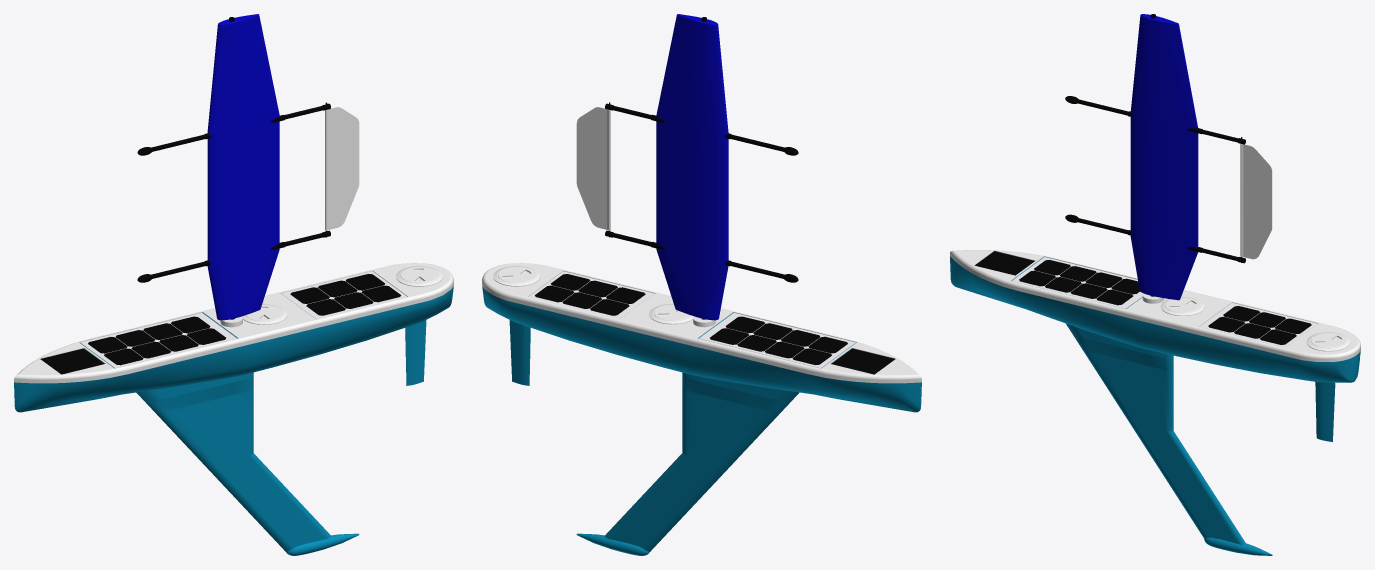
Rendered from boat.glb.
The picture shows the model from 3 angles, left to right: view 1: azimuth 30°, elevation 25°; view 2: azimuth 150°, elevation 25°; view 3: azimuth 330°, elevation 25°; orthographic projection. The views are drawn at different scales.
Parts seen in each view (by area): view 1: Body1.014, Body1.008, Body1.003, Body1.009, Body1.004, Body1.007, Body1, Body1.002, Body1.012, Body1.001; view 2: Body1.014, Body1.008, Body1.003, Body1.009, Body1.004, Body1.007, Body1, Body1.002, Body1.012, Body1.001; view 3: Body1.014, Body1.008, Body1.003, Body1.009, Body1.004, Body1.007, Body1, Body1.002, Body1.012, Body1.001.
Boxes of the visible parts, x1,y1,x2,y2 form: Body1.014: (14, 263, 453, 555); Body1.008: (207, 14, 279, 320); Body1.003: (80, 313, 236, 368); Body1.009: (325, 102, 359, 237); Body1.004: (281, 271, 407, 319); Body1.007: (151, 17, 330, 319); Body1: (405, 320, 426, 385); Body1.002: (40, 348, 104, 374); Body1.012: (396, 266, 442, 286); Body1.001: (242, 304, 287, 324); Body1.014: (482, 263, 921, 555); Body1.008: (656, 14, 728, 320); Body1.003: (699, 313, 855, 368); Body1.009: (576, 102, 610, 237); Body1.004: (528, 271, 654, 319); Body1.007: (605, 17, 784, 319); Body1: (509, 320, 530, 385); Body1.002: (831, 348, 895, 374); Body1.012: (493, 266, 540, 286); Body1.001: (649, 304, 693, 324); Body1.014: (950, 250, 1360, 555); Body1.008: (1130, 14, 1198, 300); Body1.003: (1012, 257, 1142, 308); Body1.009: (1240, 137, 1272, 262); Body1.004: (1200, 303, 1317, 347); Body1.007: (1077, 14, 1245, 296); Body1: (1315, 382, 1335, 441); Body1.002: (975, 251, 1034, 275); Body1.012: (1306, 332, 1350, 351); Body1.001: (1160, 297, 1204, 315).
Bounding box in the file's own units: 2 × 2.43 × 0.32.
